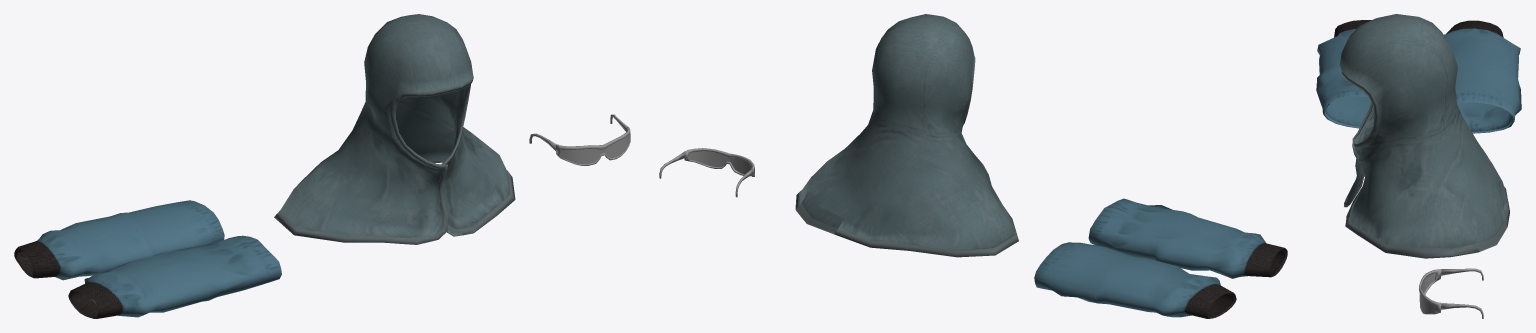
File: Meta_Equipment2.FBX
3 views of the same model, side by side, from view 1: azimuth 30°, elevation 25°; view 2: azimuth 150°, elevation 25°; view 3: azimuth 270°, elevation 25° (orthographic). The views are drawn at different scales.
Parts seen in each view (by area): view 1: Welding hood, Object008, Object009, Safety Glass; view 2: Welding hood, Object009, Object008, Safety Glass; view 3: Welding hood, Object009, Object008, Safety Glass.
Boxes of the visible parts, <box> form: Welding hood: <box>274,14,515,244</box>; Object008: <box>68,235,281,318</box>; Object009: <box>14,200,224,280</box>; Safety Glass: <box>529,114,630,165</box>; Welding hood: <box>795,14,1018,257</box>; Object009: <box>1034,242,1236,318</box>; Object008: <box>1088,198,1287,278</box>; Safety Glass: <box>659,148,754,197</box>; Welding hood: <box>1339,14,1509,258</box>; Object009: <box>1443,20,1521,133</box>; Object008: <box>1316,20,1371,128</box>; Safety Glass: <box>1419,268,1483,318</box>.
Size of the model in its own units: 113 by 34.59 by 37.04.
